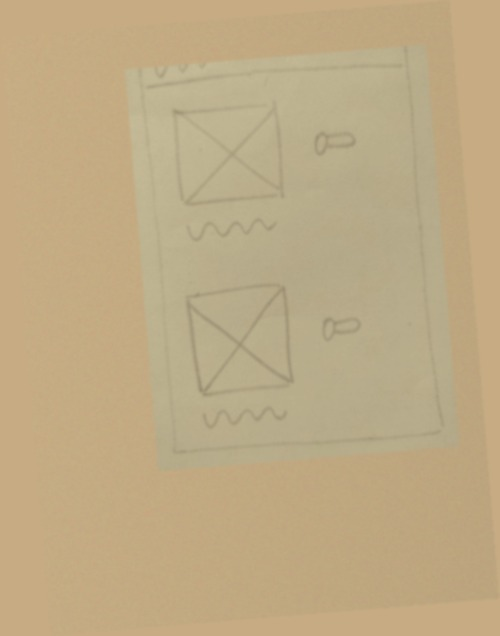image: (177, 278, 300, 398), (166, 94, 288, 214)
switch: (310, 307, 369, 344), (306, 123, 364, 160)
text: (196, 397, 293, 433), (181, 212, 279, 247)
